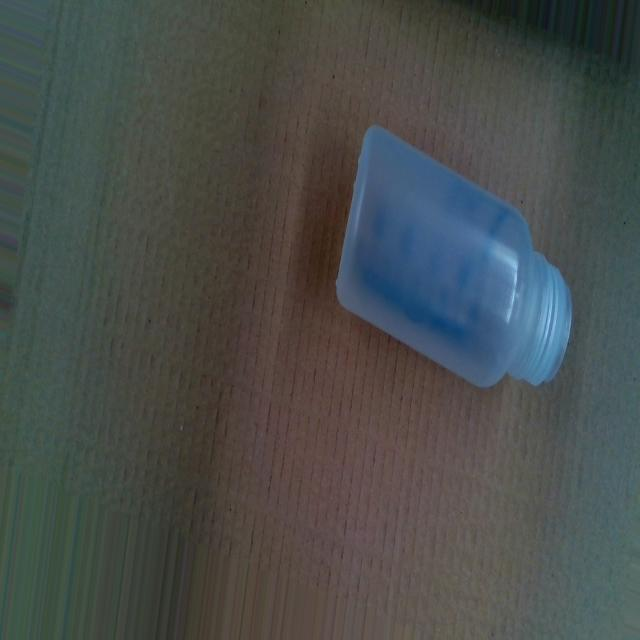bottle: (334, 125, 574, 400)
